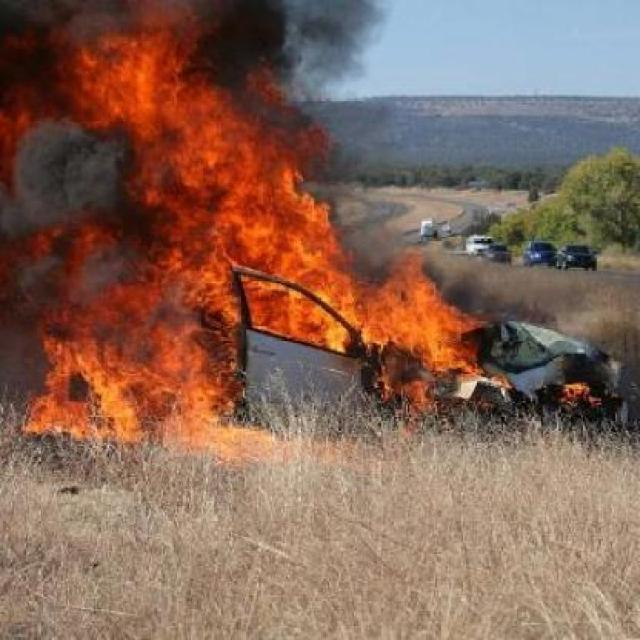Fire: (21, 39, 490, 431)
